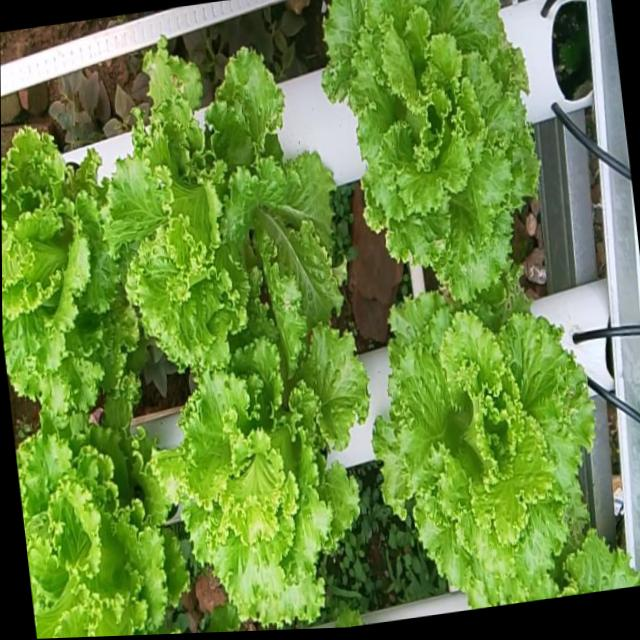Mature: (374, 271, 640, 609), (106, 46, 344, 374), (156, 297, 371, 625), (324, 0, 542, 300), (16, 411, 189, 639), (1, 127, 137, 406)
